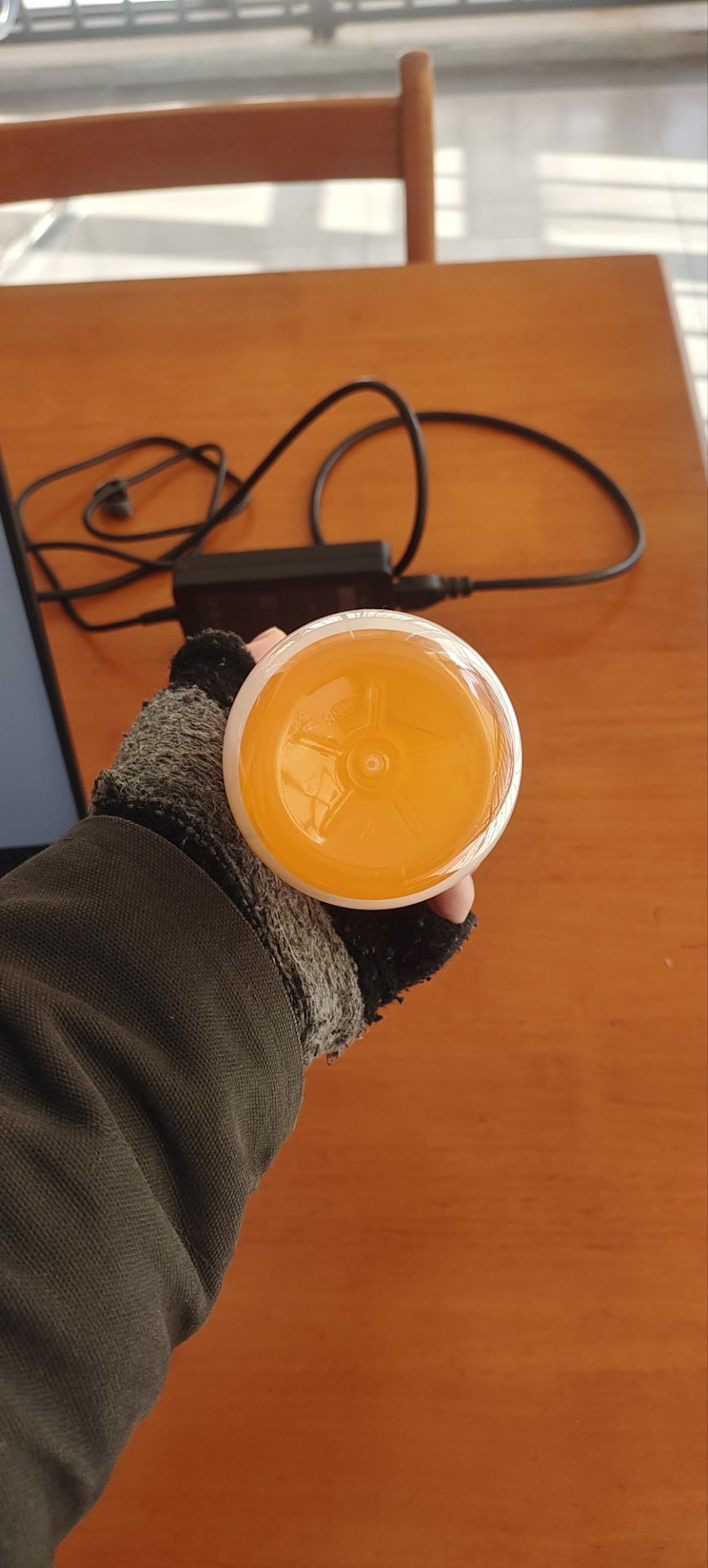redbull: (223, 609, 531, 897)
